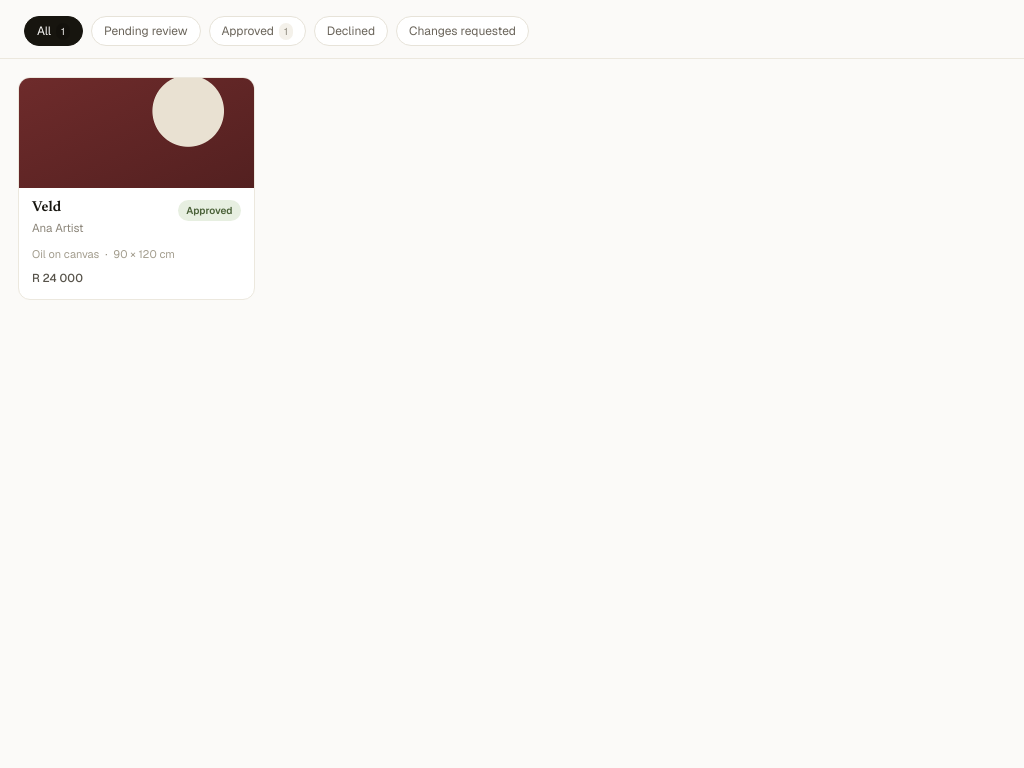
SubmissionsPanel accepting into the catalogue › reports failure and allows a retry
Click the text "Veld". click: click(46, 208)
box: x1=32 y1=200 x2=61 y2=215
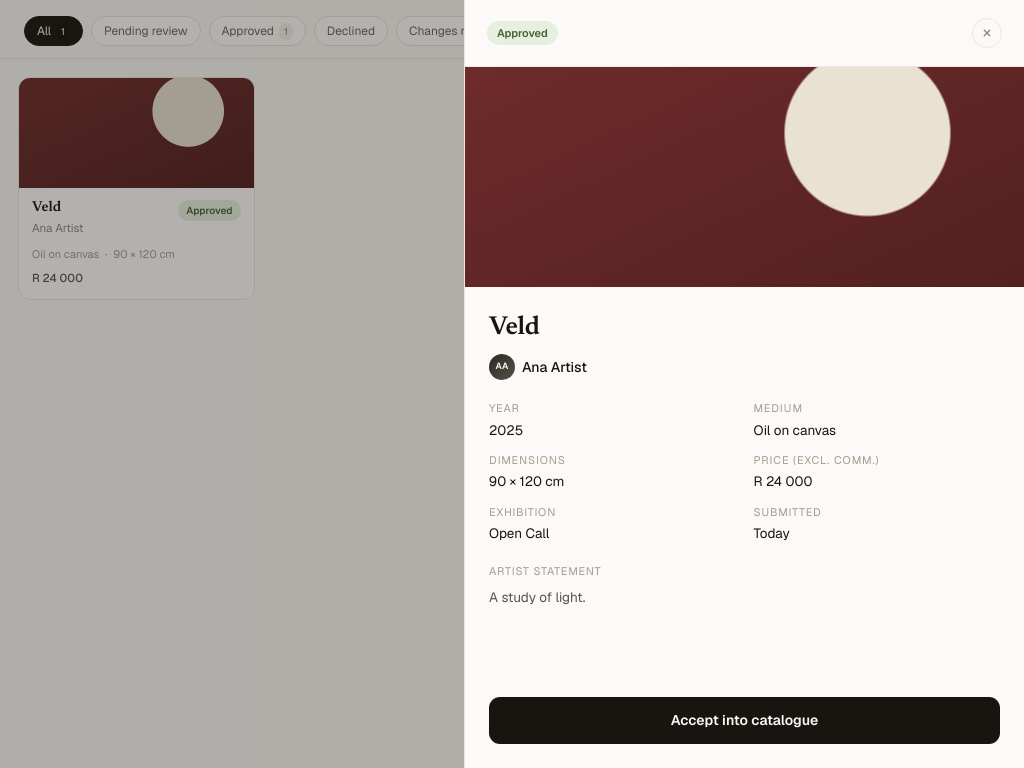
Click the button "Accept into catalogue". click: click(744, 720)
box: x1=489 y1=697 x2=1000 y2=744
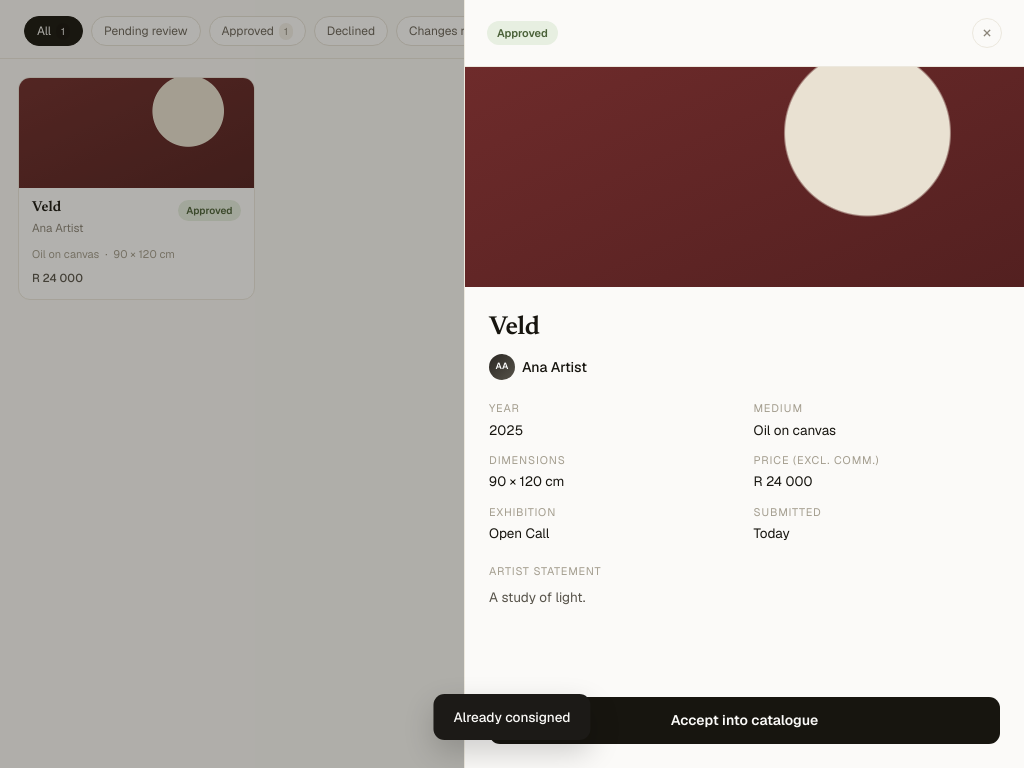
Now the button "Accept into catalogue" is enabled, box x1=489 y1=697 x2=1000 y2=744
Now the text "Already consigned" is shown, box x1=434 y1=694 x2=591 y2=740
